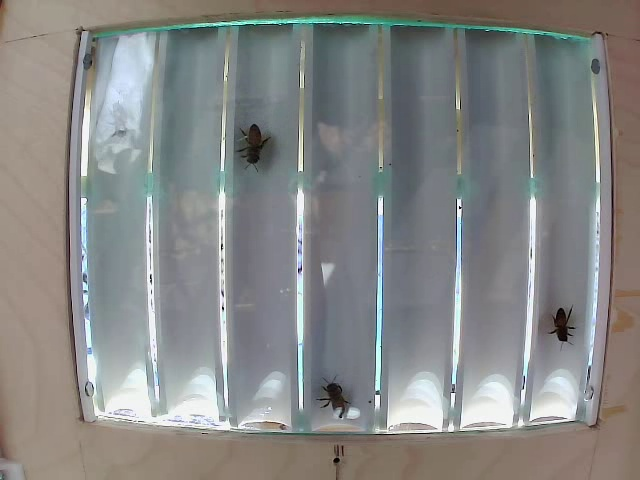bee: (309, 371, 375, 426), (246, 124, 282, 185), (531, 306, 572, 350)
